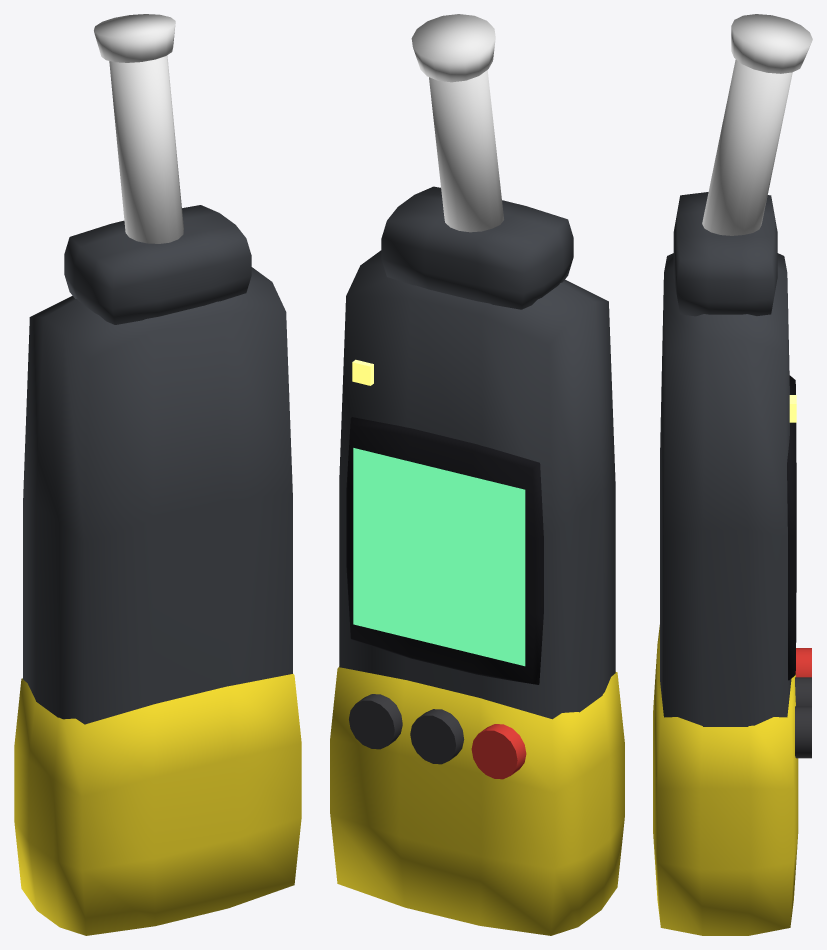
Rendered from breathalyzer.glb.
3 views of the same model, side by side, from view 1: azimuth 30°, elevation 25°; view 2: azimuth 150°, elevation 25°; view 3: azimuth 270°, elevation 25° (orthographic). The views are drawn at different scales.
Parts seen in each view (by area): view 1: devicemesh; view 2: devicemesh, screen; view 3: devicemesh.
Boxes of the visible parts, bbox=[...] form: devicemesh: bbox=[14, 14, 301, 935]; devicemesh: bbox=[330, 14, 624, 935]; screen: bbox=[353, 448, 525, 666]; devicemesh: bbox=[653, 14, 812, 935].
Size of the model in its own units: 0.078 by 0.278 by 0.0462.
